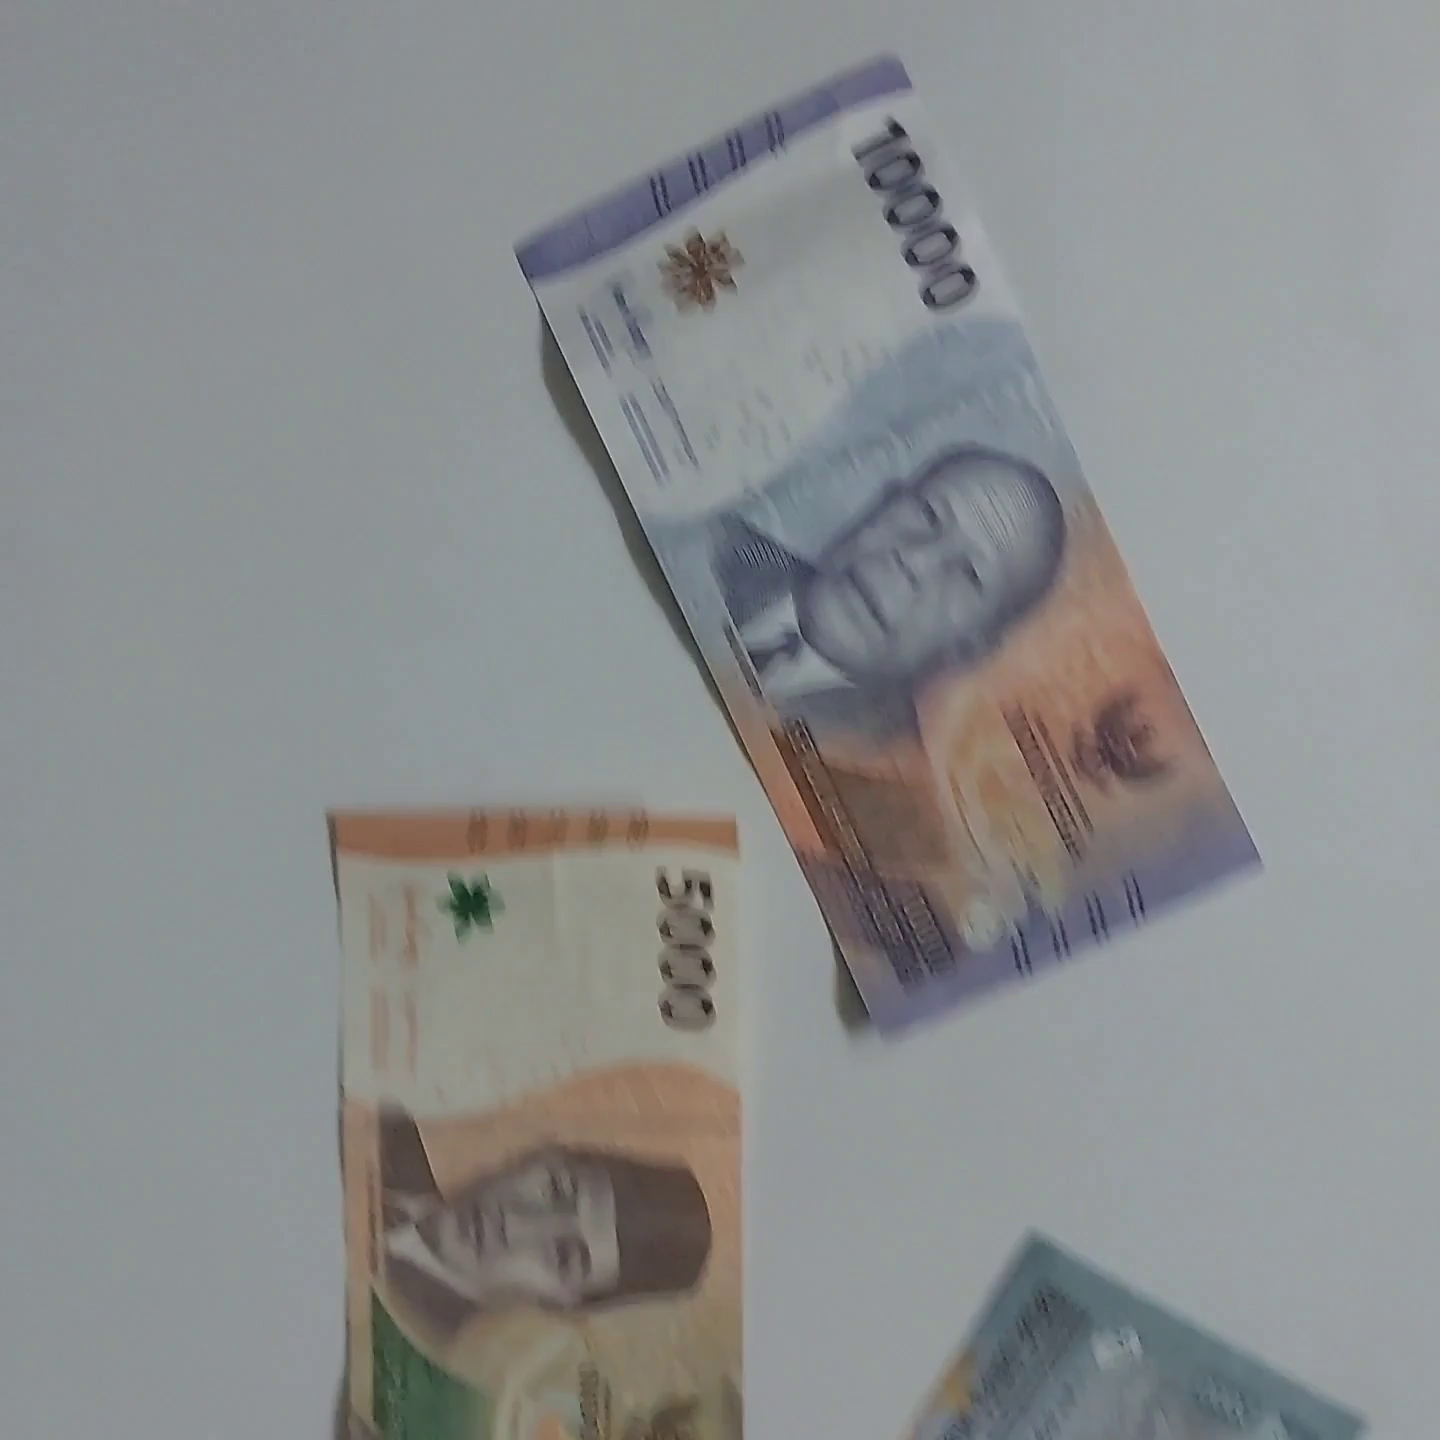10k: (481, 251, 945, 1197)
5k: (281, 770, 786, 1440)
